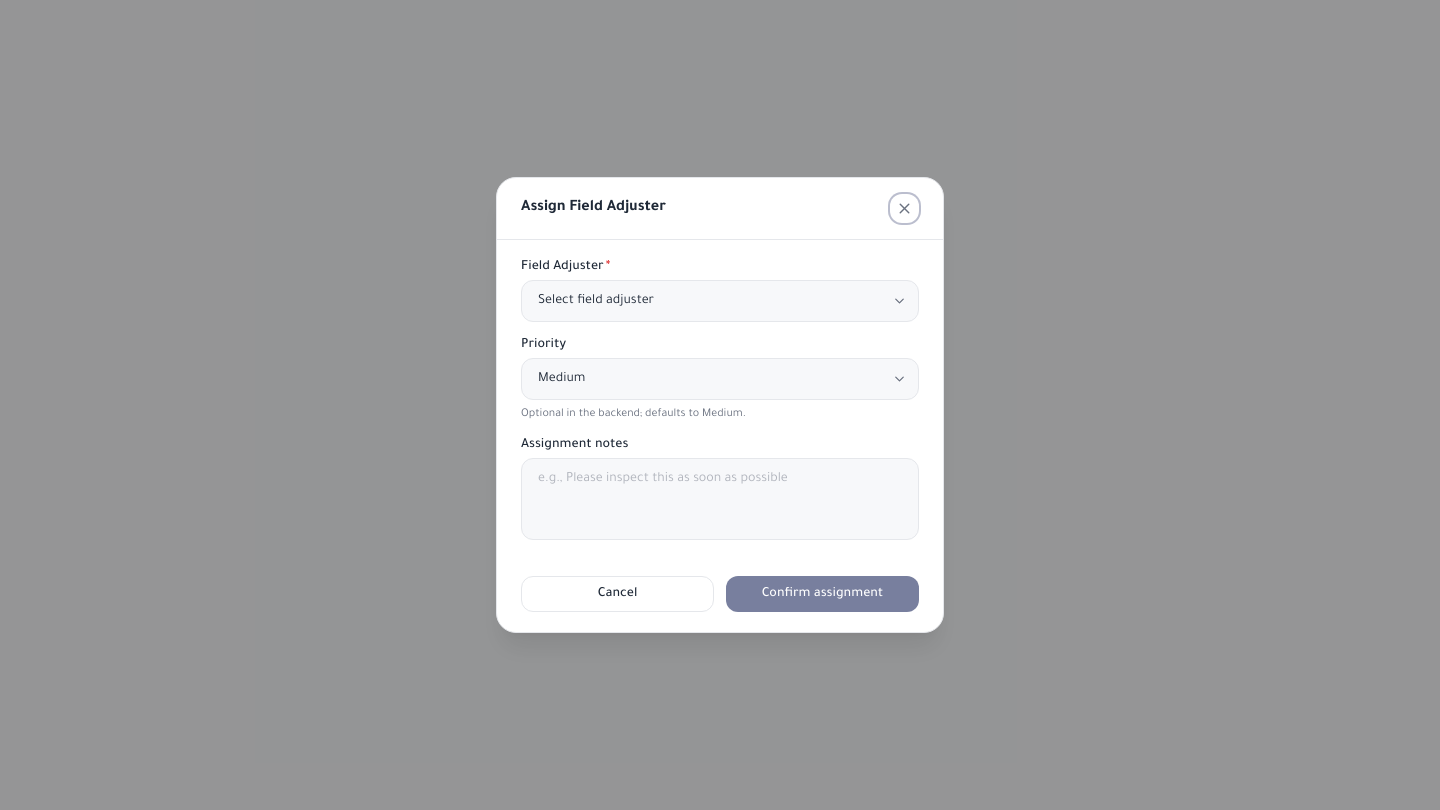
Test case: AssignClaimModal capacity override › shows the inline error and NO override dialog when the adjuster no longer exists (ADJUSTER_NOT_FOUND)
Select "Aya (FA-001) — Available · 0/3" in the 1st dropdown showing "Select field adjuster" at (720, 301), box [521, 280, 919, 322]
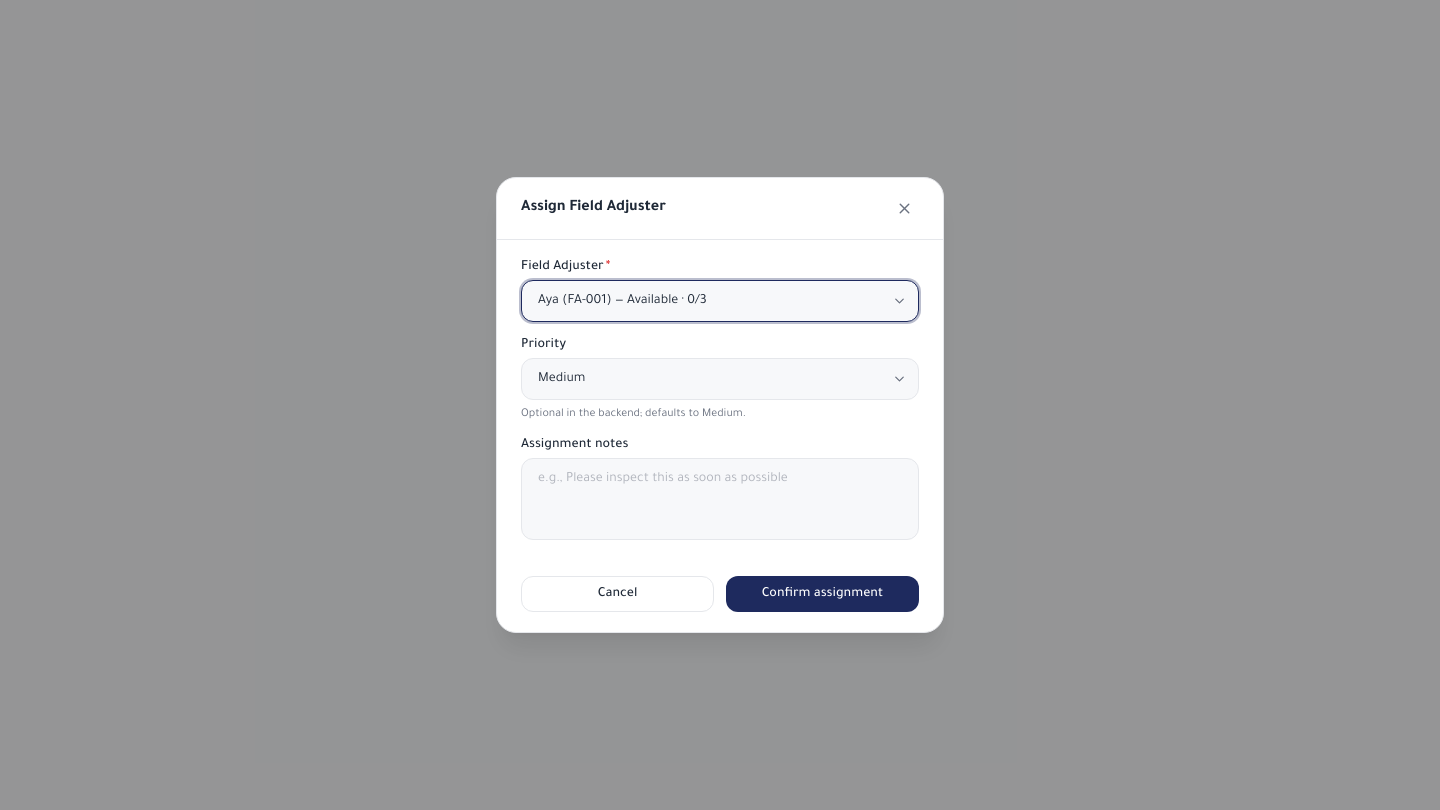
Click the button "Confirm assignment" at (822, 594), box [726, 576, 919, 612]
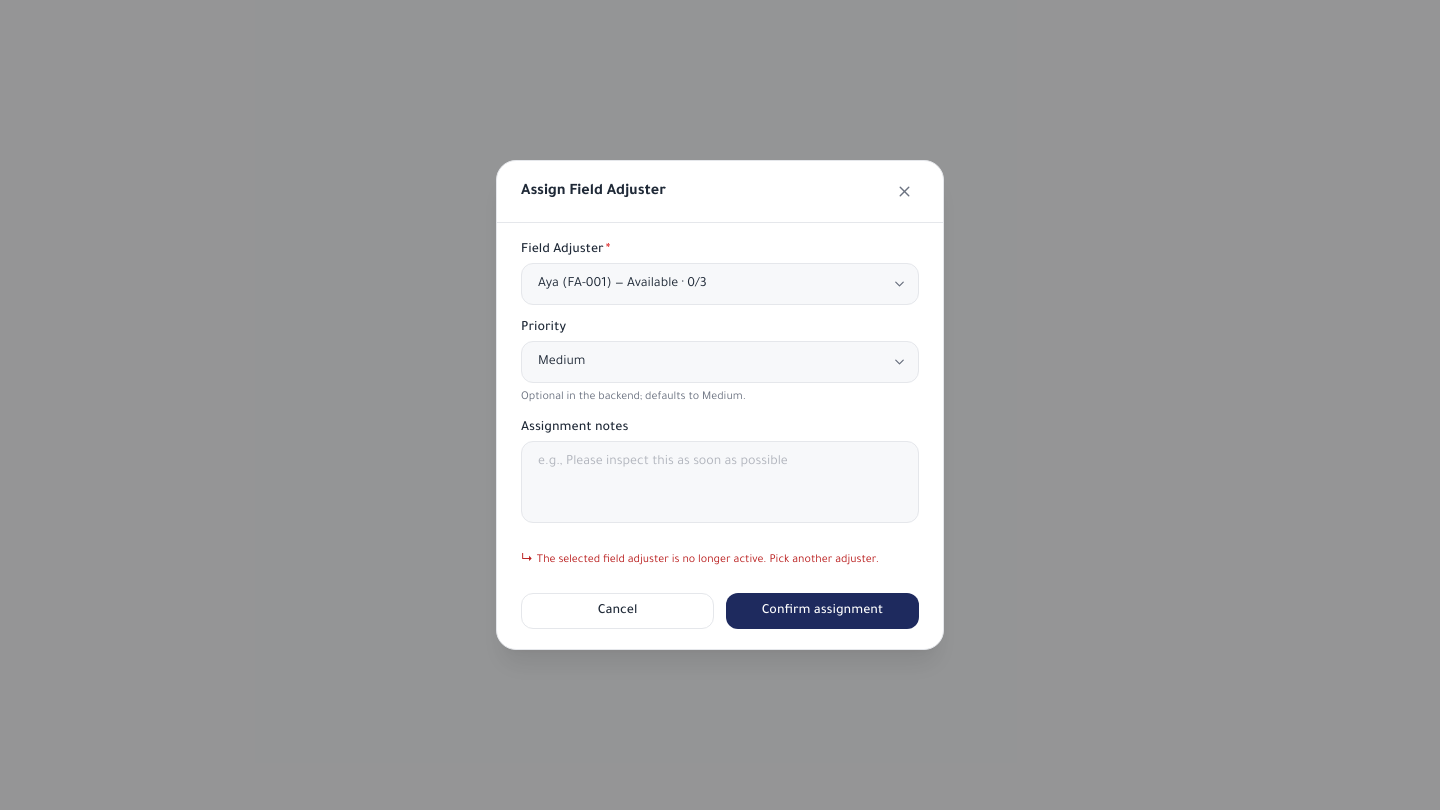
Expected: the text "↳ The selected field adjuster is no longer active. Pick another adjuster." is shown, [521, 552, 919, 569]
